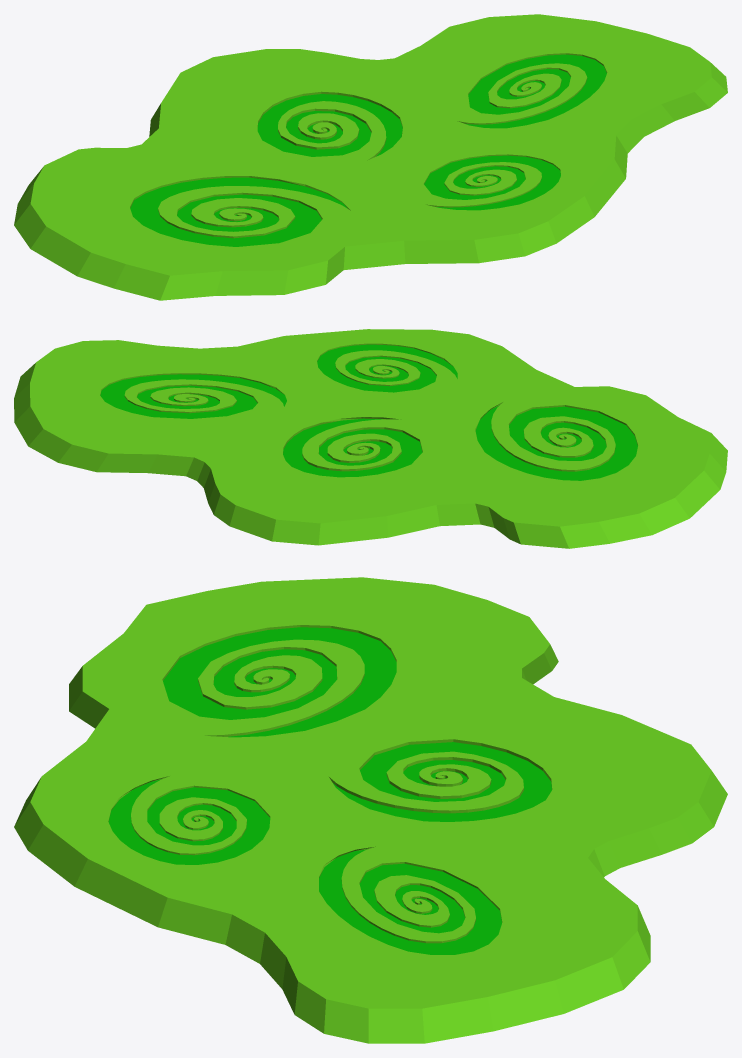
File: Grass_Mound.fbx
3 views of the same model, one above another, from view 1: azimuth 30°, elevation 25°; view 2: azimuth 150°, elevation 25°; view 3: azimuth 270°, elevation 25° (orthographic). The views are drawn at different scales.
Visible parts, largest first — view 1: Terrain_Verdant_Grass_Mound_Swirls_01.001, Terrain_Verdant_Grass_Mound_Swirls_01; view 2: Terrain_Verdant_Grass_Mound_Swirls_01.001, Terrain_Verdant_Grass_Mound_Swirls_01; view 3: Terrain_Verdant_Grass_Mound_Swirls_01.001, Terrain_Verdant_Grass_Mound_Swirls_01.
Part boxes in pixels (bbox=[...]): Terrain_Verdant_Grass_Mound_Swirls_01.001: bbox=[14, 14, 727, 300]; Terrain_Verdant_Grass_Mound_Swirls_01: bbox=[130, 54, 606, 246]; Terrain_Verdant_Grass_Mound_Swirls_01.001: bbox=[14, 329, 727, 548]; Terrain_Verdant_Grass_Mound_Swirls_01: bbox=[100, 344, 637, 480]; Terrain_Verdant_Grass_Mound_Swirls_01.001: bbox=[14, 577, 727, 1043]; Terrain_Verdant_Grass_Mound_Swirls_01: bbox=[108, 627, 551, 954].
Bounding box in the file's own units: 714 × 18.22 × 477.
